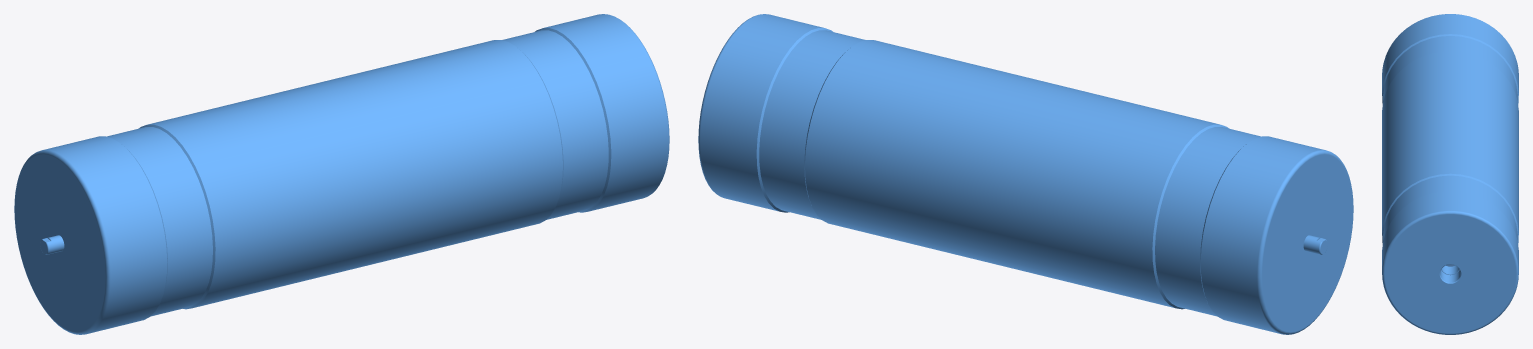
Rendered from P1_Portafolio.glb.
3 renders of one model, left to right at view 1: azimuth 30°, elevation 25°; view 2: azimuth 150°, elevation 25°; view 3: azimuth 270°, elevation 25°, orthographic. The views are drawn at different scales.
Parts seen in each view (by area): view 1: accumulator_hps10-415-250-0400_01-1; view 2: accumulator_hps10-415-250-0400_01-1; view 3: accumulator_hps10-415-250-0400_01-1.
Part boxes in pixels (x1,y1,x2,y2): accumulator_hps10-415-250-0400_01-1: [14, 14, 669, 334]; accumulator_hps10-415-250-0400_01-1: [698, 14, 1353, 334]; accumulator_hps10-415-250-0400_01-1: [1382, 14, 1518, 334].
Size of the model in its own units: 1.06 by 0.2998 by 0.3.
